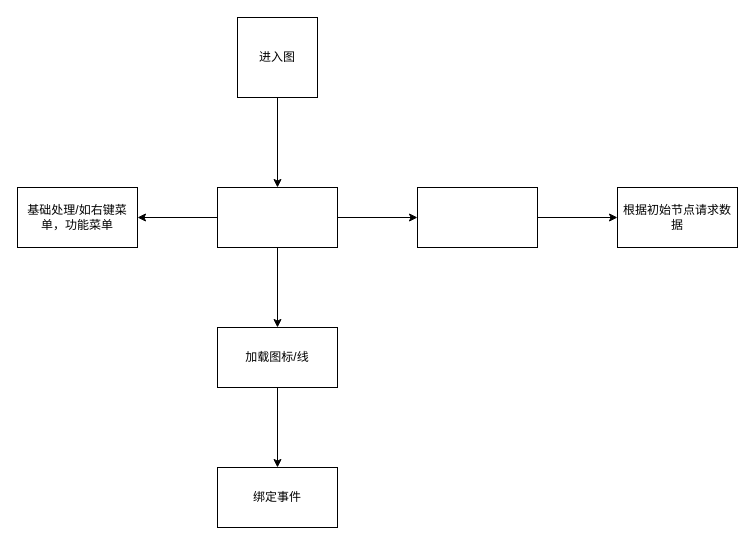
Image size: 755x545. Some labels were removed from this diagram. Here are the shapes that lost their labels. From the top down, the centre of each, then its label:
At pixel 277 217: "初始化图".
At pixel 477 217: "根据module获取图配置".
